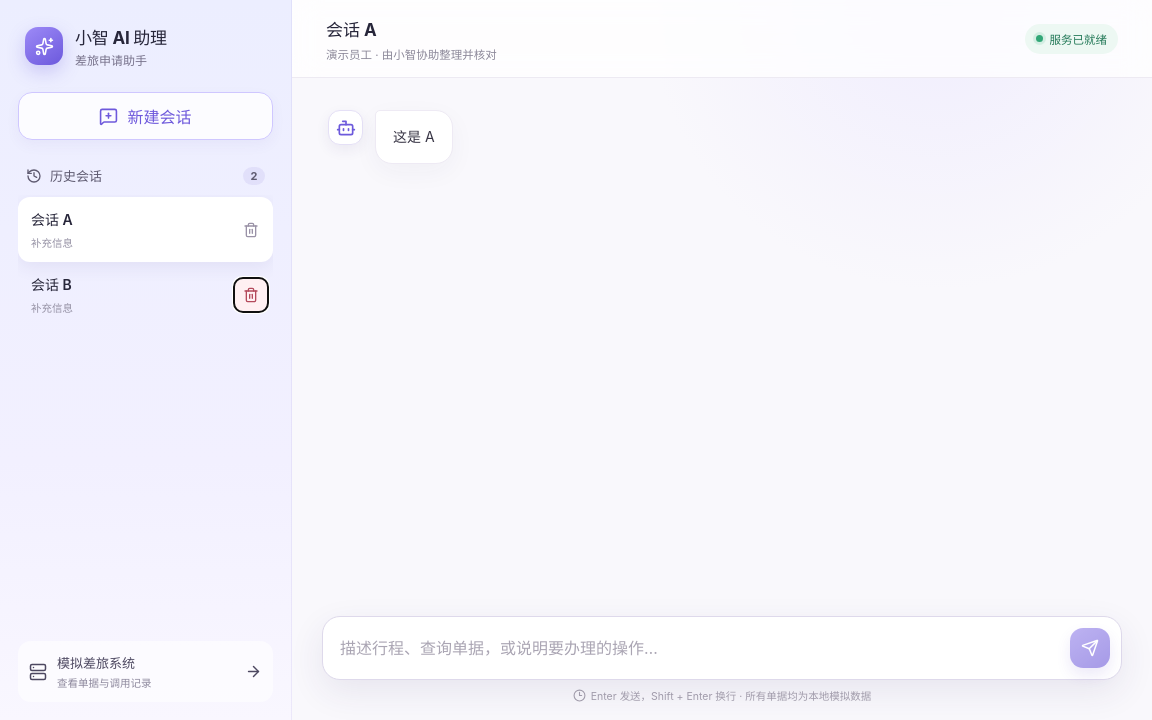
Test: 删除历史会话 › 先确认要删除的会话，取消时保留内容并恢复焦点
Expected: the text "这是 A" is shown, 393,125 -> 435,149
Click the button named "删除会话：会话 B".
click(251, 294)  # box 234,278 -> 268,312
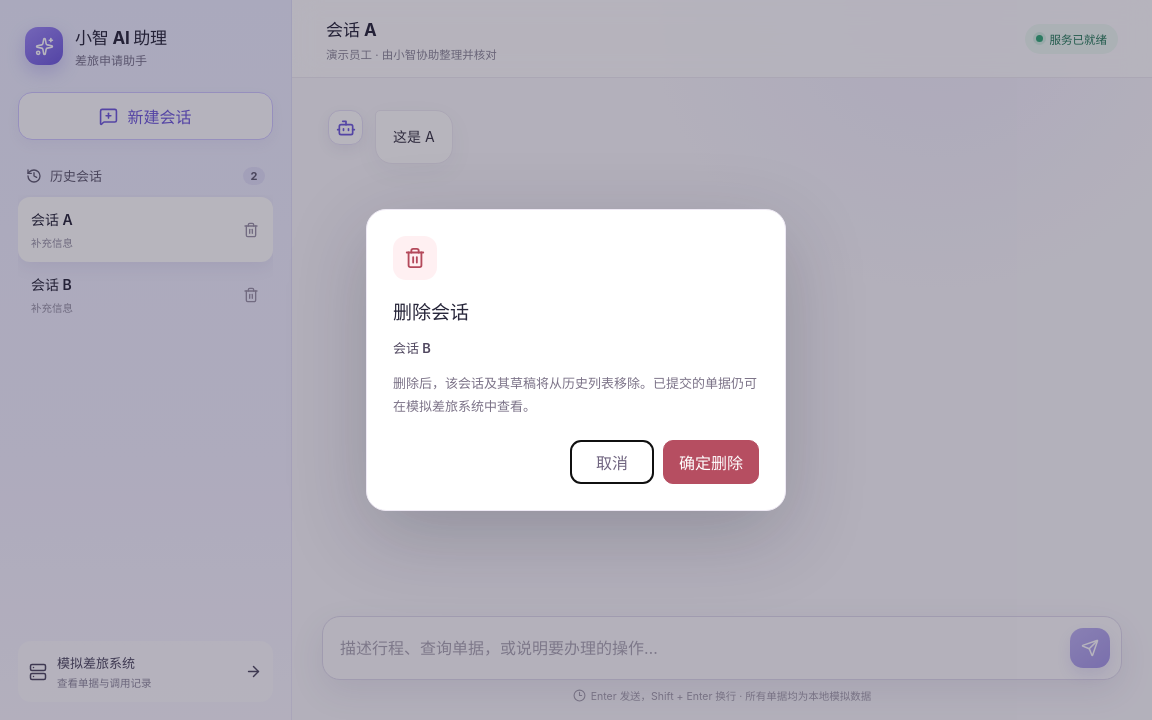
Expected: the text "会话 B" is shown, 393,340 -> 431,356
Click the button "取消".
click(612, 462)  # box 570,440 -> 654,484
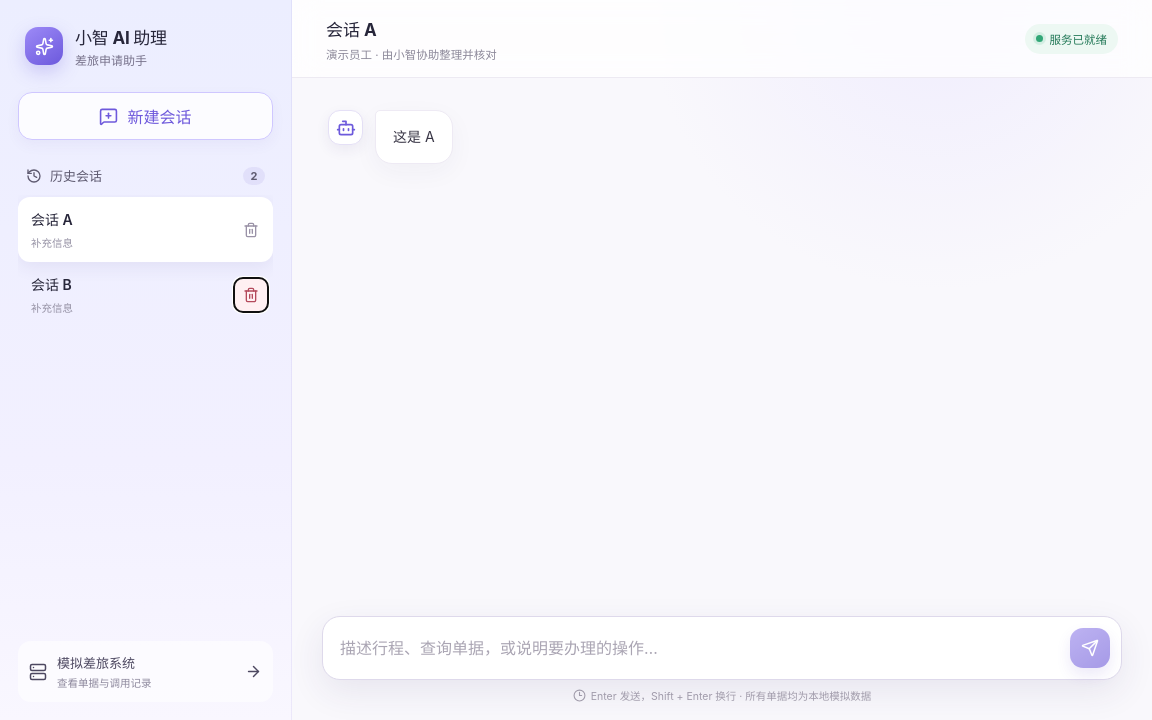
Expected: the text "这是 A" is shown, 393,125 -> 435,149
Expected: the dialog is gone
